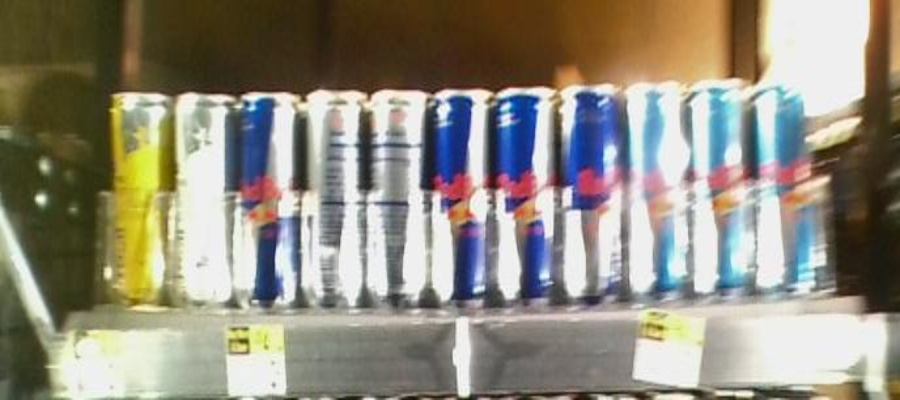bottle: (757, 58, 819, 342), (562, 58, 624, 324), (631, 64, 691, 334), (241, 72, 300, 336), (497, 64, 557, 322), (305, 74, 366, 316), (175, 72, 234, 320), (109, 80, 169, 314), (432, 76, 489, 318), (372, 74, 425, 328), (697, 80, 751, 324)
